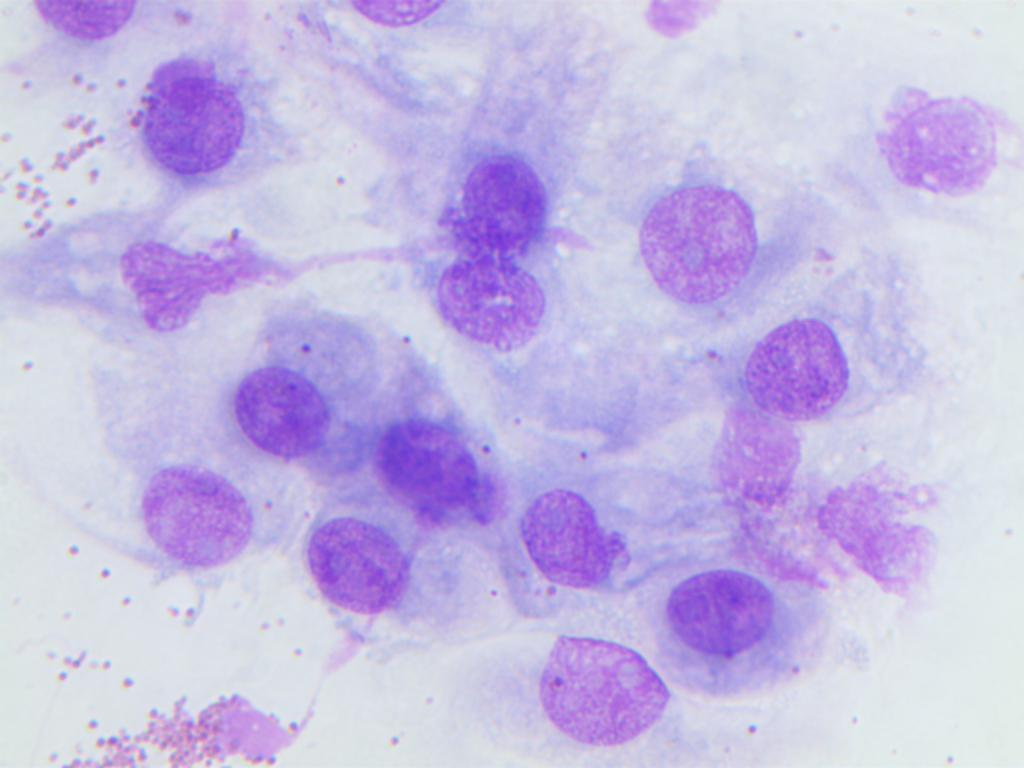artifact: (117, 224, 304, 341)
eosinophil: (149, 690, 292, 764)
epithelial: (871, 59, 1002, 217), (633, 153, 764, 311), (356, 369, 487, 527), (709, 302, 866, 427), (496, 479, 653, 604), (515, 630, 672, 755), (411, 247, 576, 357), (113, 447, 256, 566), (297, 505, 427, 635), (127, 47, 247, 181), (447, 119, 561, 247), (225, 348, 336, 465), (657, 569, 777, 660)
